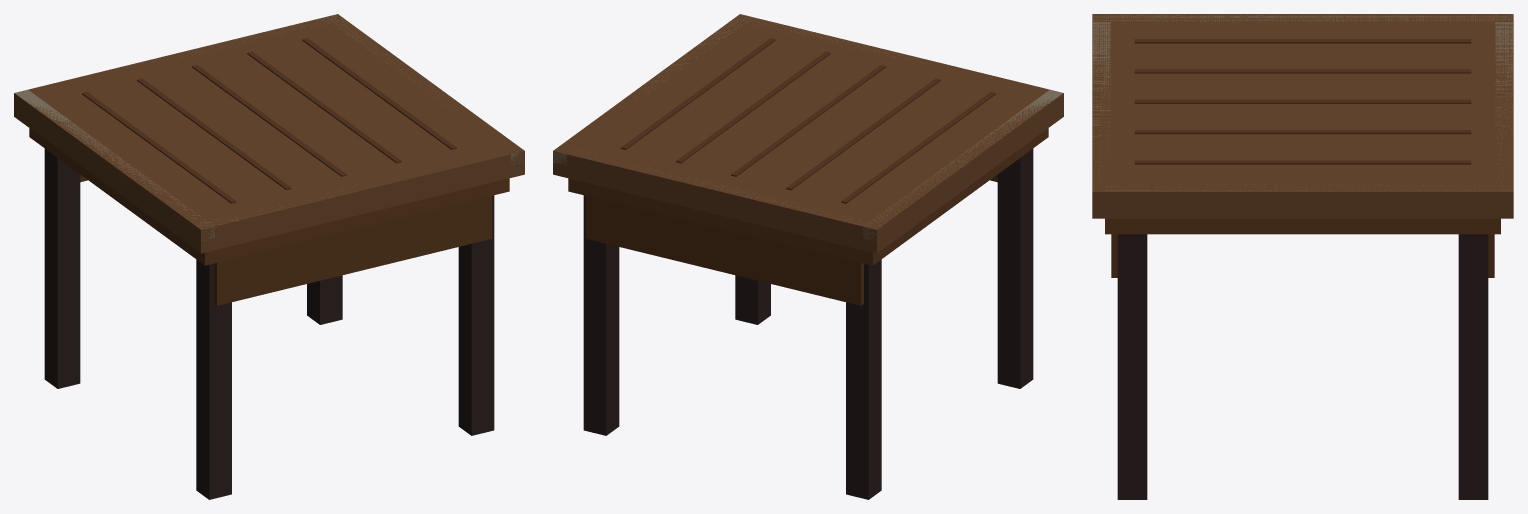
Rendered from CMU3DFancyWoodTable.glb.
The picture shows the model from 3 angles, left to right: view 1: azimuth 30°, elevation 25°; view 2: azimuth 150°, elevation 25°; view 3: azimuth 270°, elevation 25°; orthographic projection. The views are drawn at different scales.
Parts seen in each view (by area): view 1: tabletop inset, corner leg (×4), front wood apron, underframe, wood grain (×5), side perimeter edge; view 2: tabletop inset, corner leg (×4), rear wood apron, underframe, wood grain (×5), side perimeter edge; view 3: tabletop inset, corner leg (×2), wood grain (×5), underframe, end perimeter edge (×2), side perimeter edge.
Boxes of the visible parts, left/top/right/bottom form: tabletop inset: left=14, top=14, right=524, bottom=253; corner leg (×4): left=44, top=148, right=494, bottom=499; front wood apron: left=214, top=196, right=492, bottom=305; underframe: left=29, top=128, right=509, bottom=265; wood grain (×5): left=82, top=38, right=456, bottom=203; side perimeter edge: left=15, top=89, right=214, bottom=240; tabletop inset: left=553, top=14, right=1063, bottom=253; corner leg (×4): left=583, top=148, right=1033, bottom=499; rear wood apron: left=585, top=196, right=863, bottom=305; underframe: left=568, top=128, right=1048, bottom=265; wood grain (×5): left=621, top=38, right=995, bottom=203; side perimeter edge: left=863, top=89, right=1062, bottom=241; tabletop inset: left=1092, top=14, right=1513, bottom=218; corner leg (×2): left=1117, top=234, right=1488, bottom=499; wood grain (×5): left=1134, top=39, right=1471, bottom=164; underframe: left=1105, top=218, right=1500, bottom=234; end perimeter edge (×2): left=1093, top=22, right=1512, bottom=179; side perimeter edge: left=1092, top=14, right=1513, bottom=21.
Bounding box in the file's own units: 1 × 0.84 × 1.
